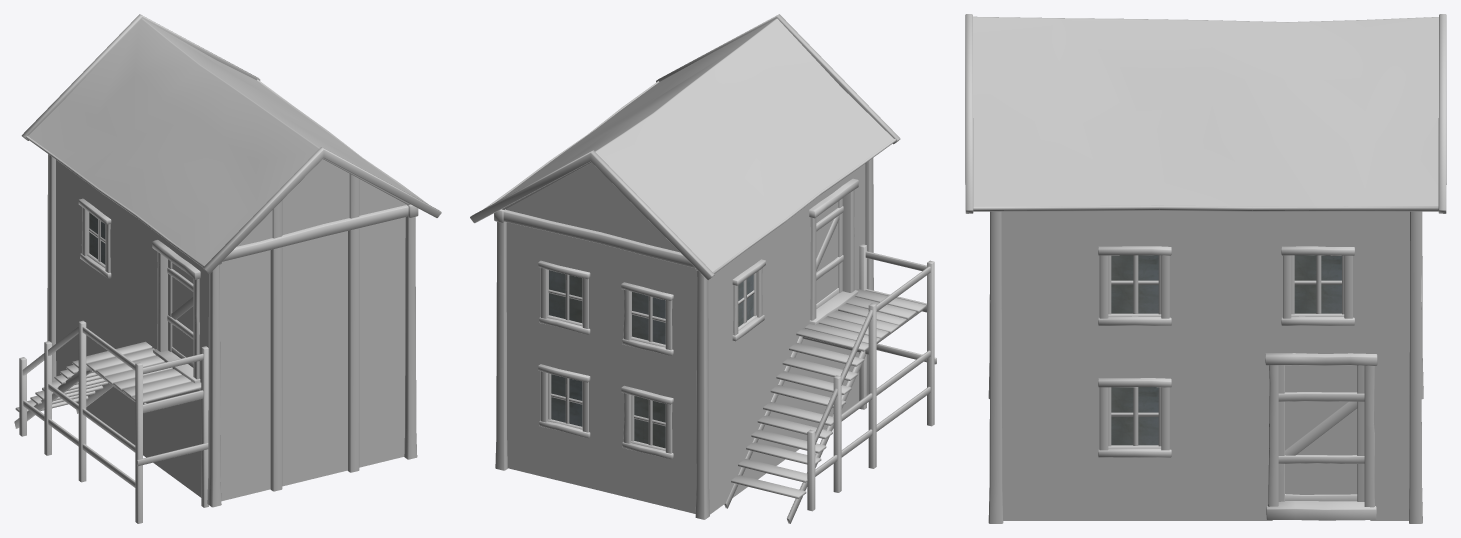
The model's file is House_8.FBX.
The picture shows the model from 3 angles, left to right: view 1: azimuth 30°, elevation 25°; view 2: azimuth 150°, elevation 25°; view 3: azimuth 270°, elevation 25°; orthographic projection. The views are drawn at different scales.
Parts seen in each view (by area): view 1: Mesh; view 2: Mesh; view 3: Mesh.
Boxes of the visible parts, x1,y1,x2,y2 form: Mesh: (14,14,441,523); Mesh: (470,14,936,523); Mesh: (965,14,1446,523).
Size of the model in its own units: 623 by 691 by 724.
